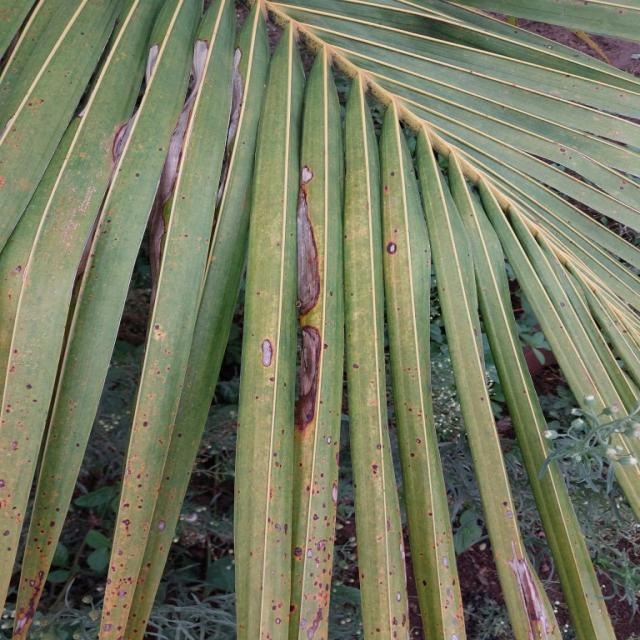gray leaf spot: (129, 28, 337, 439)
